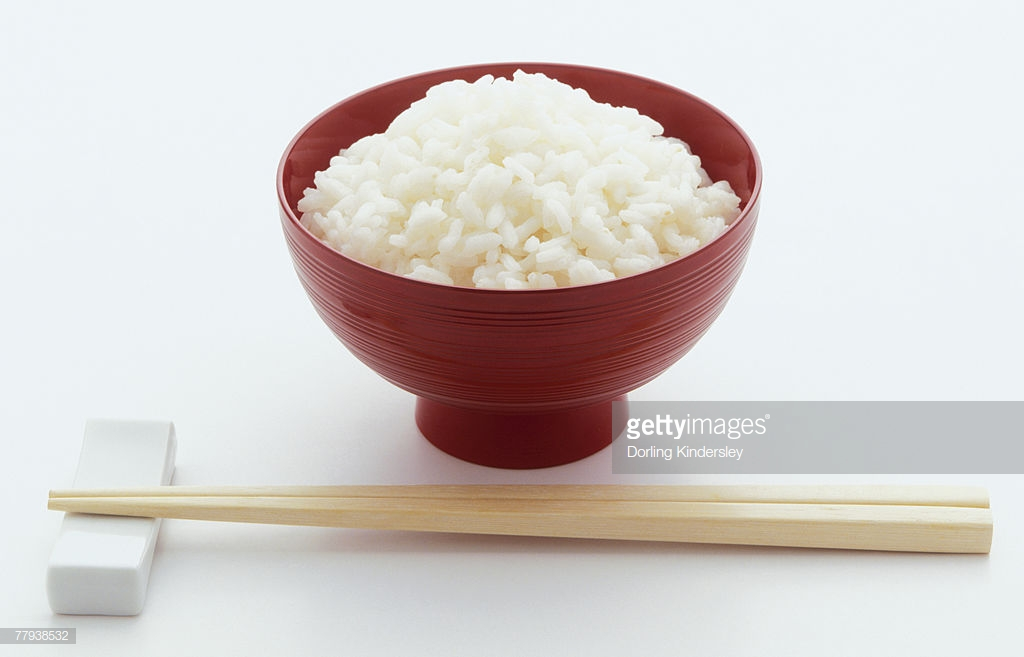plain rice: (363, 107, 673, 274)
